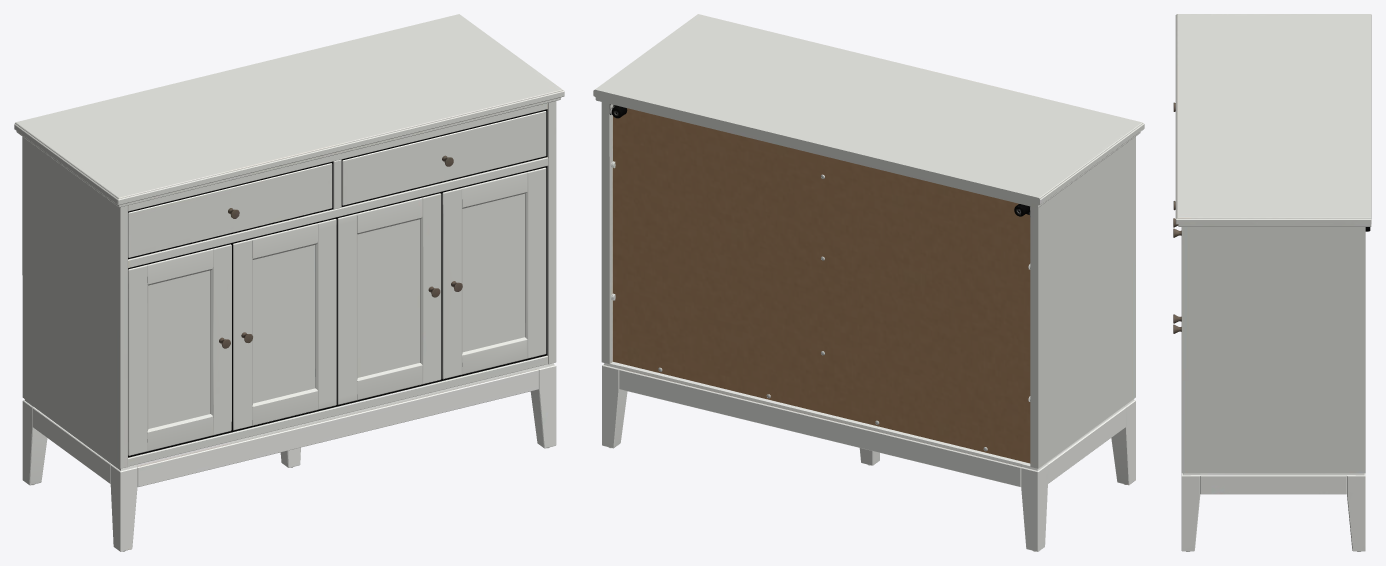
The model's file is storage-3.glb.
3 renders of one model, left to right at view 1: azimuth 30°, elevation 25°; view 2: azimuth 150°, elevation 25°; view 3: azimuth 270°, elevation 25°, orthographic. The views are drawn at different scales.
Parts seen in each view (by area): view 1: 80496025-IDANÃƒÆ’Ã¢â‚¬Å¾S001; view 2: 80496025-IDANÃƒÆ’Ã¢â‚¬Å¾S001; view 3: 80496025-IDANÃƒÆ’Ã¢â‚¬Å¾S001.
Part boxes in pixels (x1=…): 80496025-IDANÃƒÆ’Ã¢â‚¬Å¾S001: x1=14, y1=14, x2=564, y2=551; 80496025-IDANÃƒÆ’Ã¢â‚¬Å¾S001: x1=593, y1=14, x2=1144, y2=551; 80496025-IDANÃƒÆ’Ã¢â‚¬Å¾S001: x1=1173, y1=14, x2=1371, y2=551.
Bounding box in the file's own units: 1.24 × 0.951 × 0.5058.
1 material, 1 textured.
